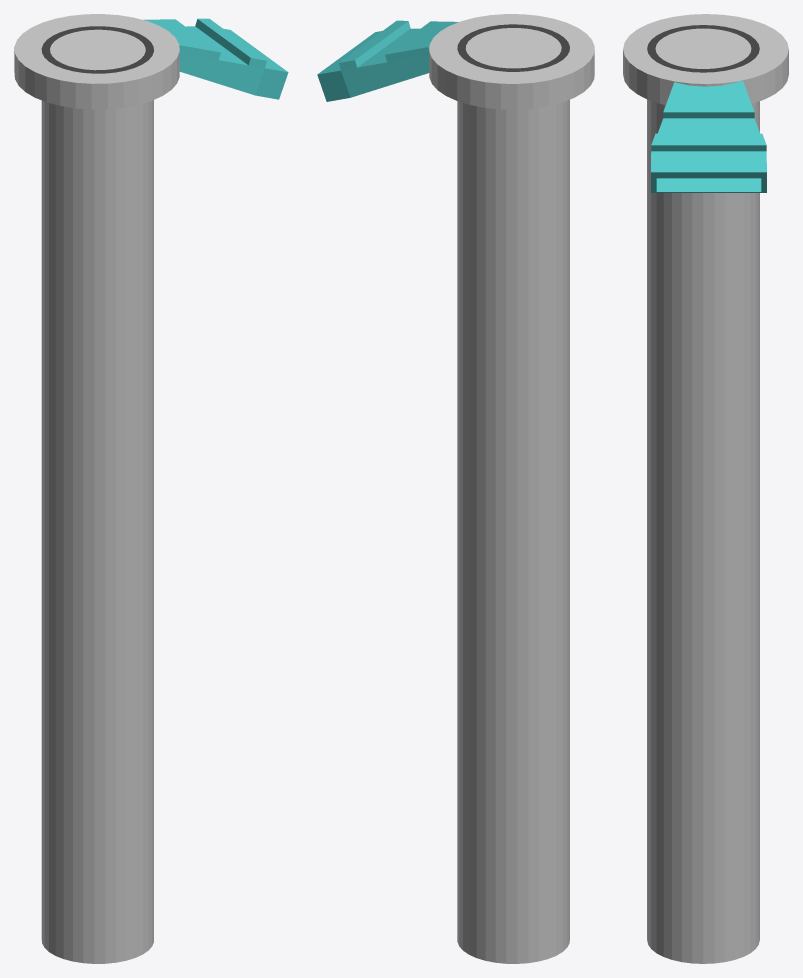
The model's file is scan.fbx.
3 views of the same model, side by side, from view 1: azimuth 30°, elevation 25°; view 2: azimuth 150°, elevation 25°; view 3: azimuth 270°, elevation 25° (orthographic).
Visible parts, largest first — view 1: Cylinder, Cube; view 2: Cylinder, Cube; view 3: Cylinder, Cube.
Part boxes in pixels (box(x1,y1,x2,y2)): Cylinder: box(14, 14, 179, 963); Cube: box(143, 18, 288, 99); Cylinder: box(429, 14, 594, 963); Cube: box(317, 20, 458, 101); Cylinder: box(623, 14, 788, 963); Cube: box(651, 81, 766, 192).
Bounding box in the file's own units: 224 × 809 × 136.
